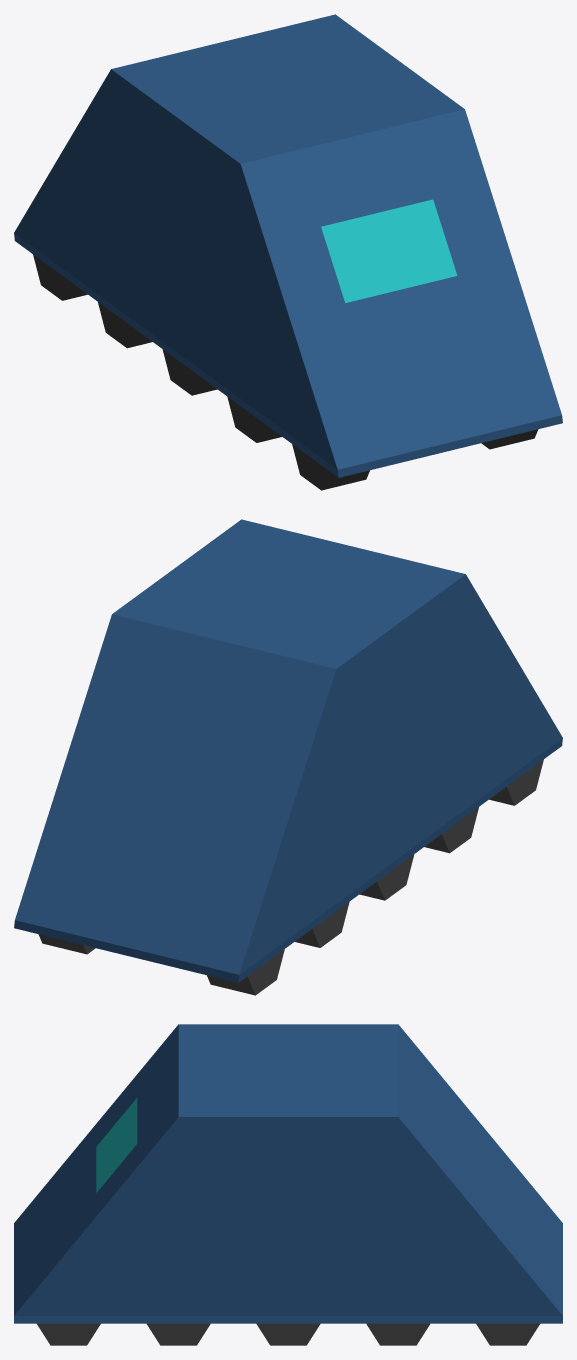
Rendered from shittank.glb.
The picture shows the model from 3 angles, top to bottom: view 1: azimuth 30°, elevation 25°; view 2: azimuth 150°, elevation 25°; view 3: azimuth 270°, elevation 25°; orthographic projection. The views are drawn at different scales.
Visible parts, largest first — view 1: Cube, Cylinder.006, Cylinder.008, Cylinder.010, Cylinder.009, Cylinder.007; view 2: Cube, Cylinder.008, Cylinder.006, Cylinder.010, Cylinder.007, Cylinder.009; view 3: Cube, Cylinder.001, Cylinder.002, Cylinder.004, Cylinder.003, Cylinder.005.
Part boxes in pixels (x1,y1,x2,y2): Cube: (14, 14, 562, 477); Cylinder.006: (292, 444, 369, 490); Cylinder.008: (33, 254, 87, 300); Cylinder.010: (162, 349, 217, 395); Cylinder.009: (98, 302, 152, 348); Cylinder.007: (227, 397, 281, 442); Cube: (14, 519, 562, 982); Cylinder.008: (207, 949, 284, 995); Cylinder.006: (489, 759, 543, 805); Cylinder.010: (359, 854, 414, 900); Cylinder.007: (424, 807, 478, 853); Cylinder.009: (295, 902, 349, 947); Cube: (14, 1024, 562, 1323); Cylinder.001: (256, 1323, 320, 1345); Cylinder.002: (366, 1323, 429, 1345); Cylinder.004: (147, 1323, 210, 1345); Cylinder.003: (476, 1323, 539, 1345); Cylinder.005: (37, 1323, 100, 1345).
Bounding box in the file's own units: 2.01 × 2.32 × 5.
